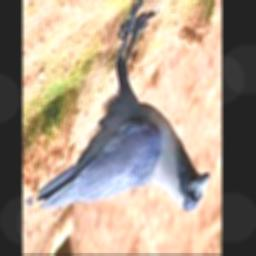Crow: (23, 0, 209, 214)
